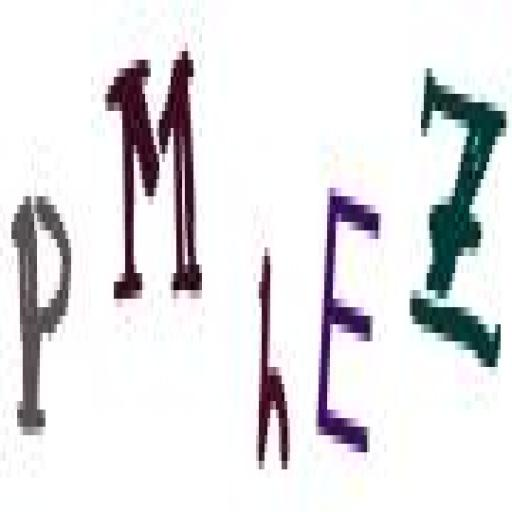E: (314, 182, 385, 474)
M: (102, 42, 208, 315)
P: (8, 182, 74, 446)
Z: (411, 42, 510, 388)
h: (253, 229, 294, 484)
